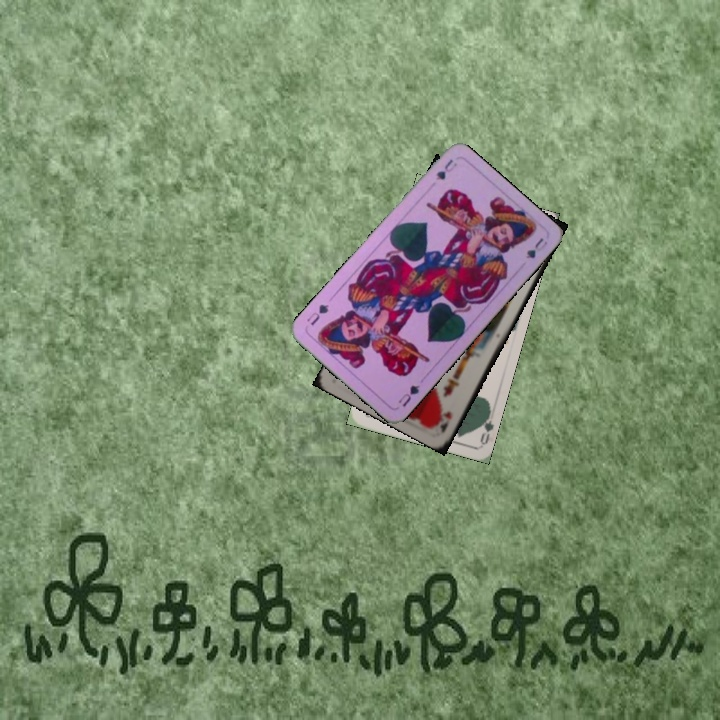GO: (473, 405, 495, 446)
GU: (394, 381, 422, 410), (431, 155, 460, 183)
HK: (432, 407, 454, 435)
